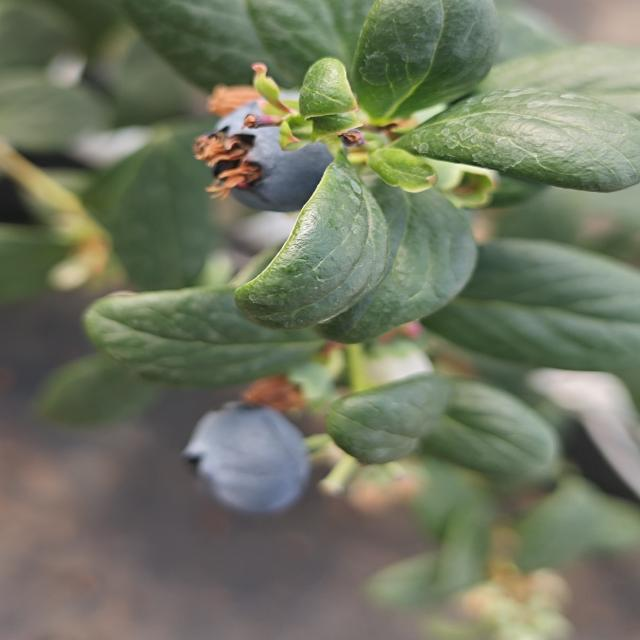ripe: (180, 77, 363, 220), (174, 388, 324, 522)
